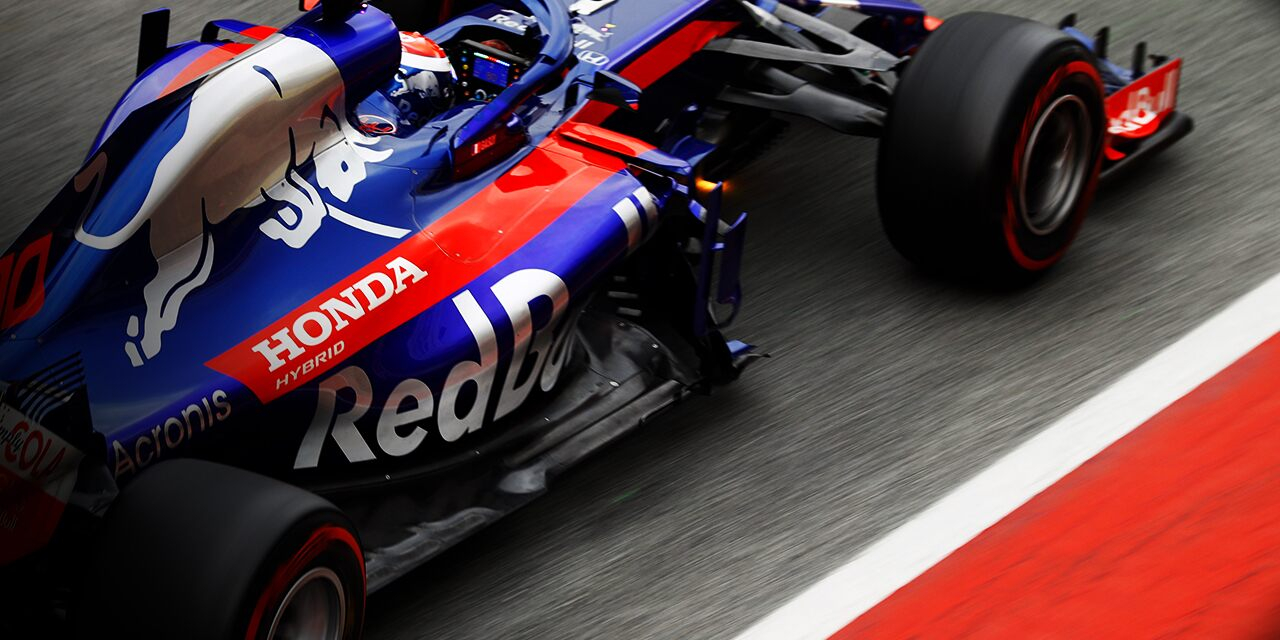f1_car: (4, 3, 1202, 640)
